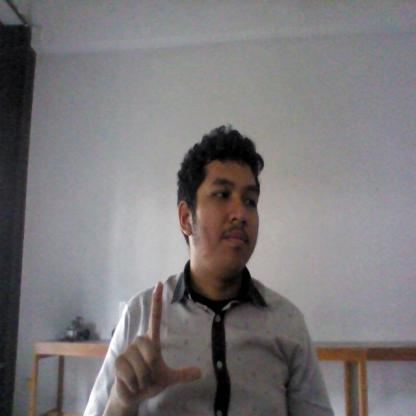L: (110, 278, 206, 409)
